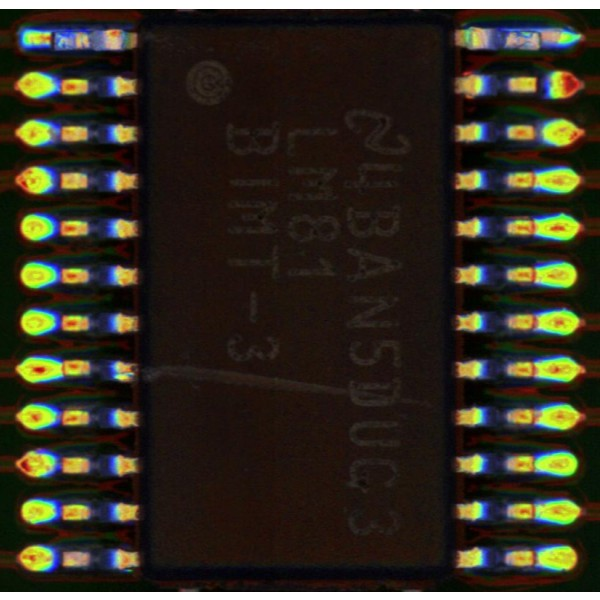Bad_podu: (528, 32, 555, 44), (38, 36, 65, 45)
